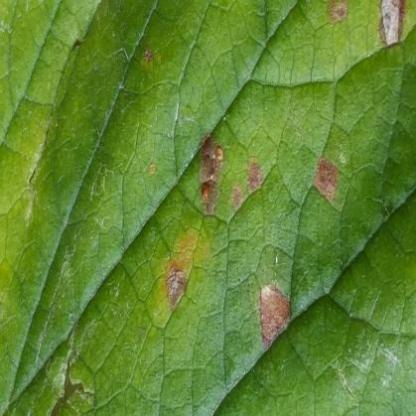Strawberry_Angular_LeafSpot: (135, 0, 415, 360)
